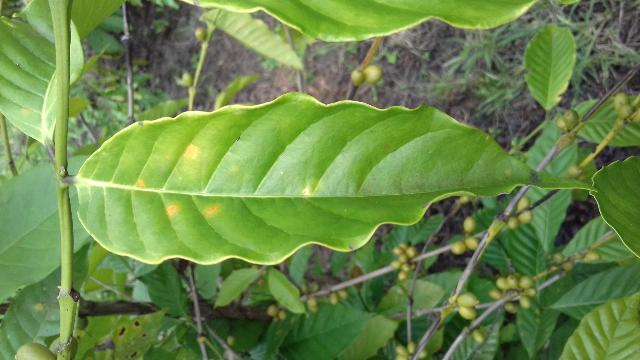rust_level_1: (76, 92, 595, 265)
